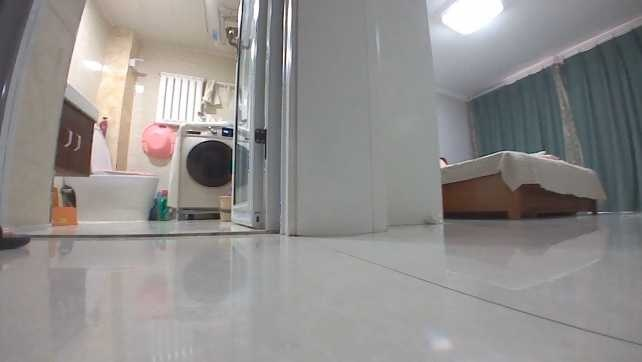bed: (438, 147, 609, 220)
door_anno: (225, 0, 267, 227)
door_sill: (25, 224, 271, 240)
toilet: (59, 125, 162, 225)
washing_machine: (165, 122, 236, 220)
